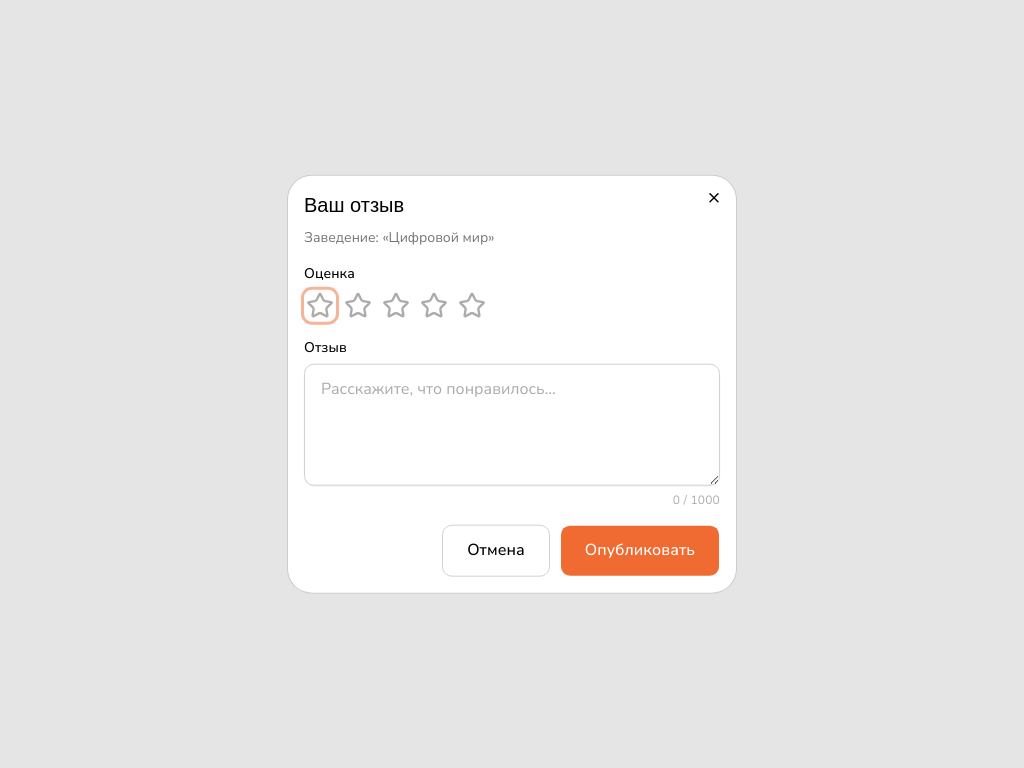
renders a mapped summary error and keeps the modal open on failure
The image size is (1024, 768).
Click the button named "Оценка 4 из 5" at (434, 305), box [418,289,450,321]
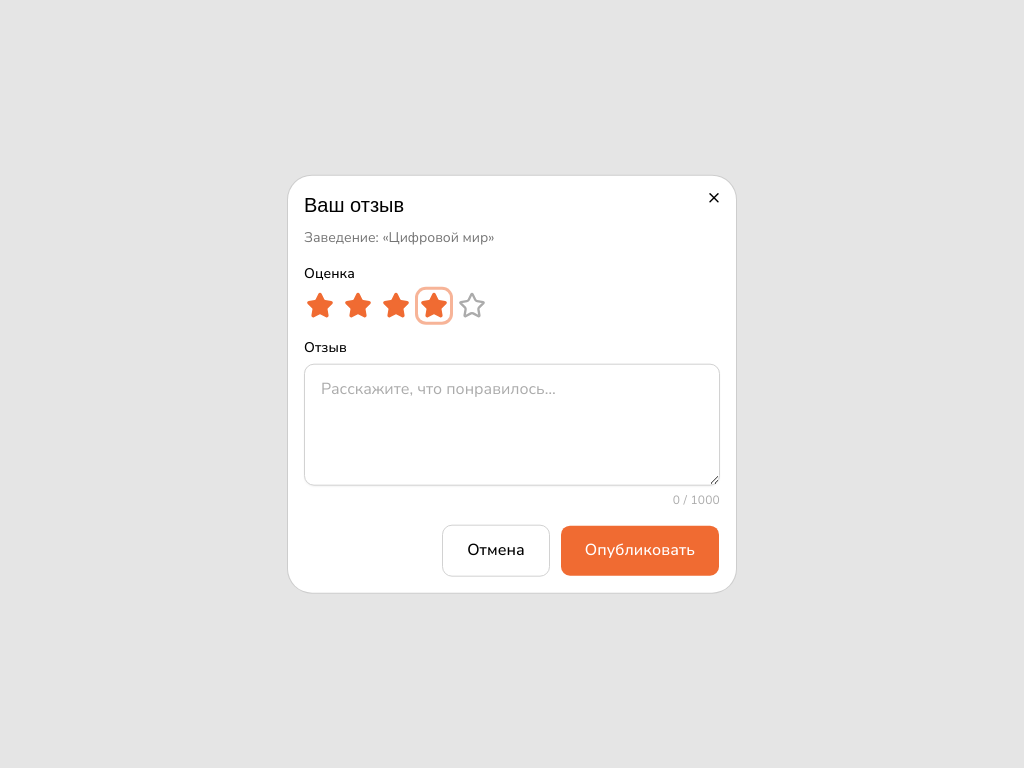
Type "Норм" into the text box labelled "Отзыв" at (512, 424), box [304,363,720,485]
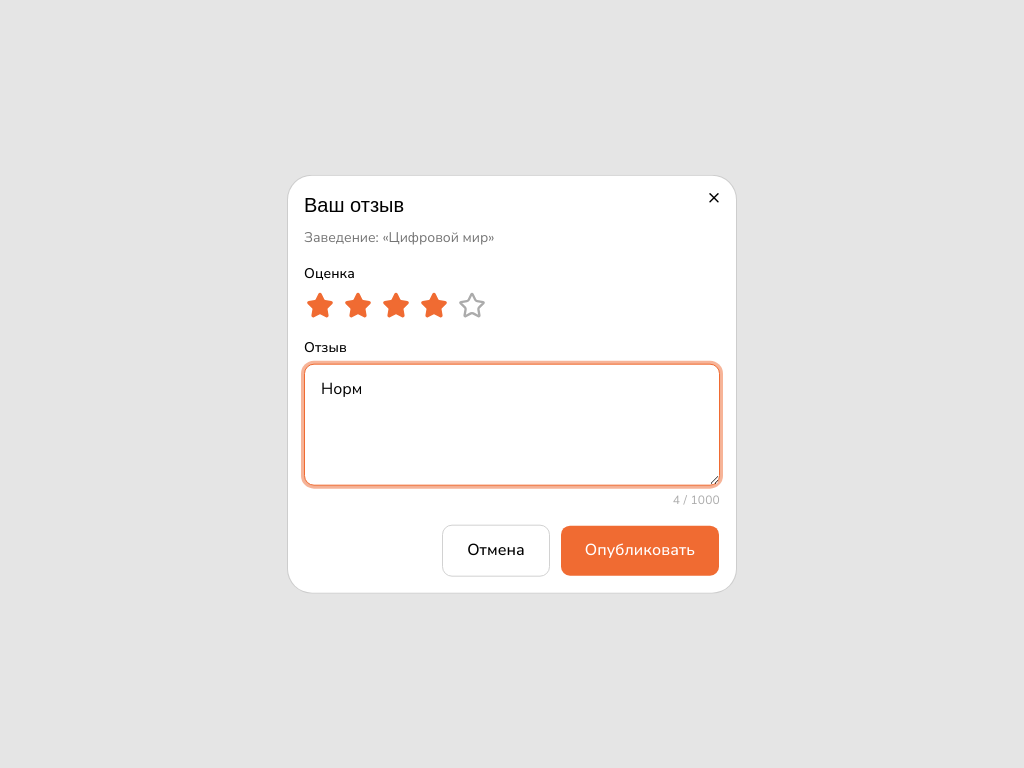
Click the button "Опубликовать" at (640, 550), box [560,524,720,576]
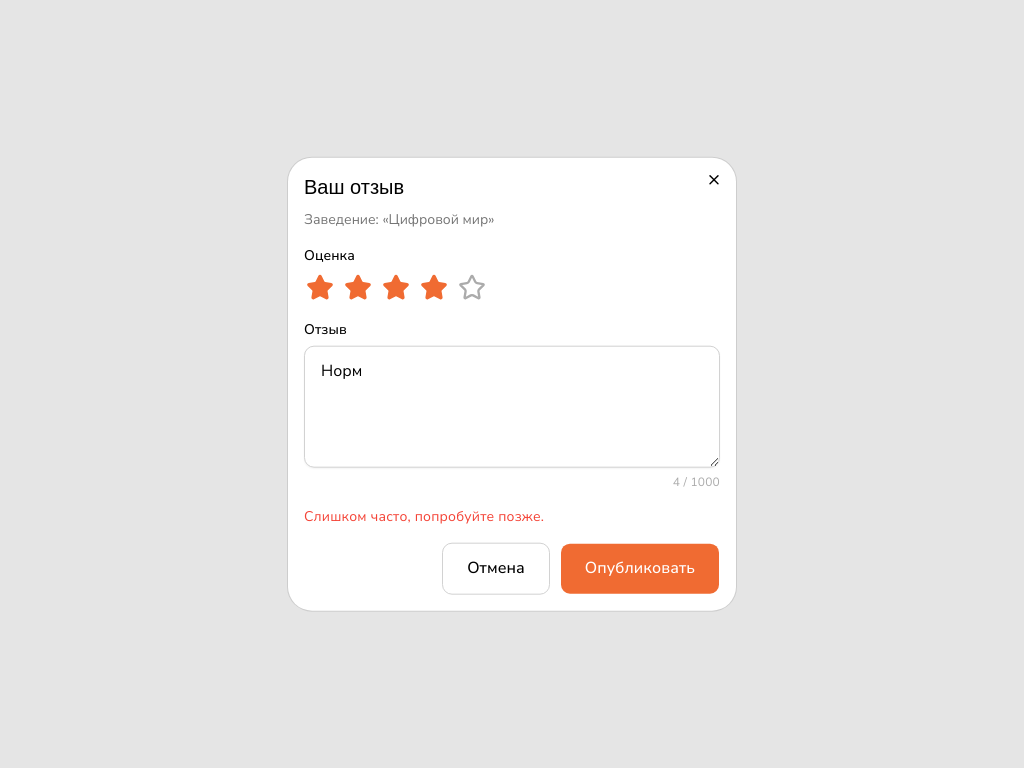
Check: the text "Слишком часто, попробуйте позже." is shown, box [304,506,544,525]
